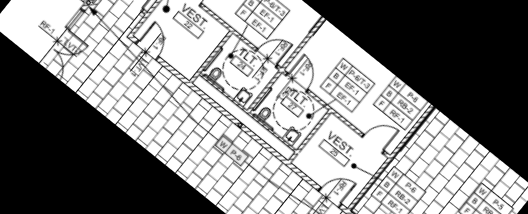door: (316, 165, 361, 210), (134, 18, 178, 62), (359, 112, 403, 156), (284, 51, 327, 94), (256, 27, 296, 66), (122, 0, 160, 10), (177, 0, 220, 8)
wall: (148, 50, 331, 201), (346, 104, 437, 214), (196, 70, 299, 154), (246, 16, 327, 114), (192, 0, 262, 57), (124, 0, 217, 42), (302, 87, 366, 141), (284, 106, 336, 167), (186, 28, 236, 86), (335, 200, 405, 214), (77, 0, 126, 15), (36, 0, 96, 12), (90, 0, 118, 11)
